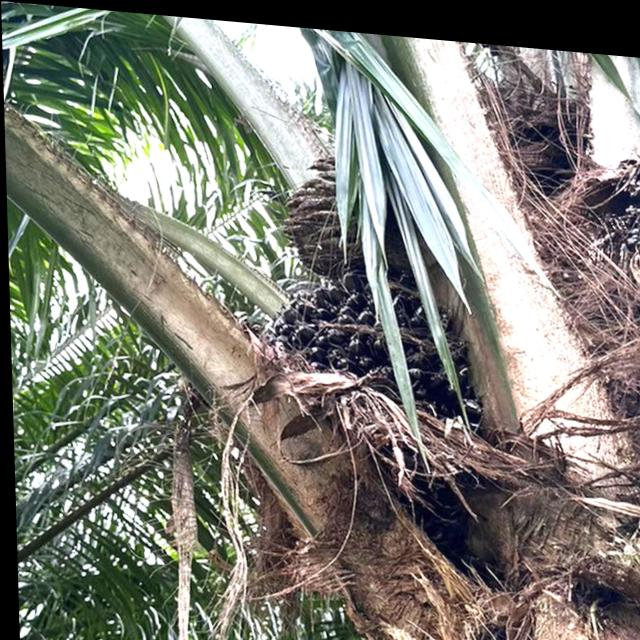unripe: (251, 248, 489, 453)
